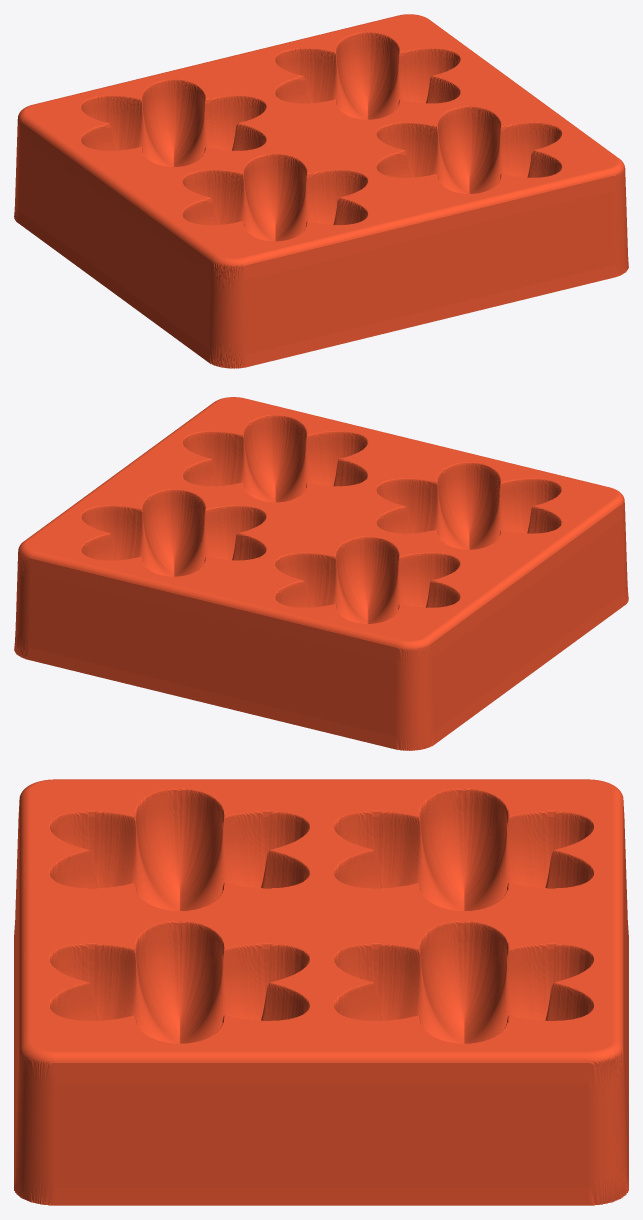
Rendered from mold.glb.
3 views of the same model, one above another, from view 1: azimuth 30°, elevation 25°; view 2: azimuth 150°, elevation 25°; view 3: azimuth 270°, elevation 25° (orthographic). The views are drawn at different scales.
Parts seen in each view (by area): view 1: geometry_0; view 2: geometry_0; view 3: geometry_0.
Boxes of the visible parts, box(x1,y1,x2,y2) form: geometry_0: box(14, 14, 628, 368); geometry_0: box(14, 397, 628, 750); geometry_0: box(14, 779, 628, 1205).
Bounding box in the file's own units: 0.1493 × 0.036 × 0.1363.
